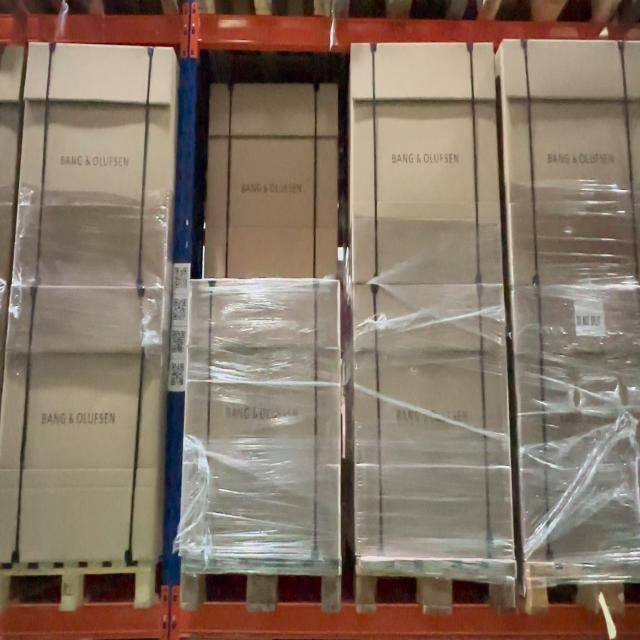box: (358, 287, 506, 553), (190, 284, 338, 546), (352, 44, 493, 278), (213, 84, 338, 277)
